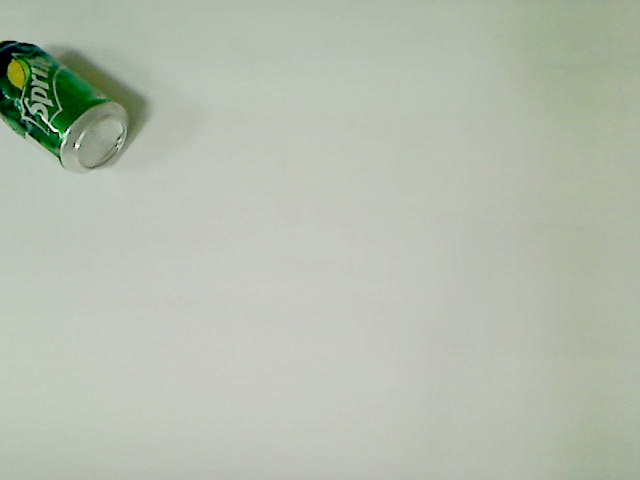can: (1, 34, 130, 178)
